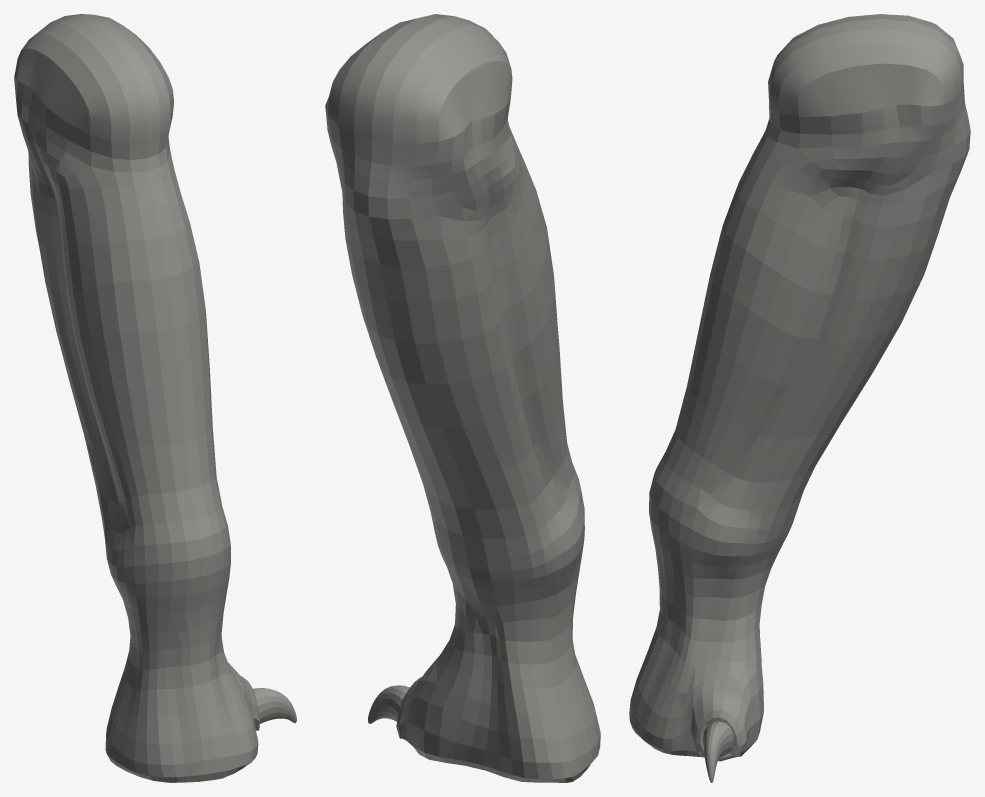
File: pieIzq1.obj
The picture shows the model from 3 angles, left to right: view 1: azimuth 30°, elevation 25°; view 2: azimuth 150°, elevation 25°; view 3: azimuth 270°, elevation 25°; orthographic projection. The views are drawn at different scales.
Visible parts, largest first — view 1: polySurface161; view 2: polySurface161; view 3: polySurface161.
Boxes of the visible parts, bbox=[...] form: polySurface161: bbox=[14, 14, 296, 782]; polySurface161: bbox=[325, 14, 600, 782]; polySurface161: bbox=[629, 14, 970, 782].
Size of the model in its own units: 0.8666 by 3.07 by 1.35.
2 materials, 2 textured.
